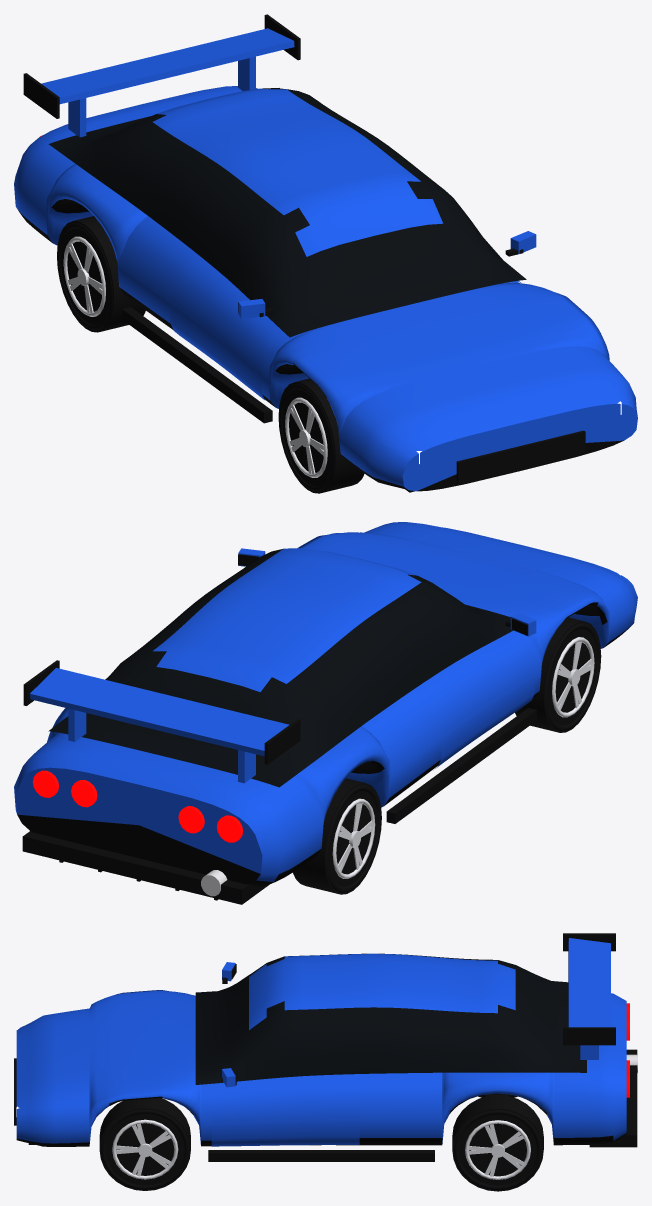
The model's file is kaze.glb.
3 renders of one model, top to bottom at view 1: azimuth 30°, elevation 25°; view 2: azimuth 150°, elevation 25°; view 3: azimuth 270°, elevation 25°, orthographic. The views are drawn at different scales.
Parts seen in each view (by area): view 1: Body, Cabin, Details, Panel2, Tire4, Tire2, Rim2, Rim4; view 2: Body, Cabin, Details, Panel2, Tire4, Tire2, TailLights, Rim2, Rim4; view 3: Cabin, Body, Details, Panel, Tire3, Tire, Rim, Rim3.
Part boxes in pixels (x1,y1,x2,y2): Body: (14, 86, 637, 491); Cabin: (48, 88, 526, 337); Details: (23, 14, 585, 492); Panel2: (170, 255, 285, 399); Tire4: (57, 216, 145, 332); Tire2: (278, 378, 364, 493); Rim2: (285, 397, 327, 477); Rim4: (63, 236, 105, 316); Body: (14, 522, 637, 887); Cabin: (48, 548, 513, 787); Details: (22, 548, 536, 904); Panel2: (412, 633, 534, 768); Tire4: (293, 778, 381, 894); Tire2: (515, 617, 601, 732); TailLights: (32, 770, 243, 842); Rim2: (552, 637, 594, 717); Rim4: (332, 798, 375, 878); Cabin: (195, 953, 586, 1084); Body: (16, 990, 626, 1146); Details: (14, 933, 637, 1161); Panel: (211, 1074, 359, 1146); Tire3: (452, 1095, 543, 1191); Tire: (99, 1098, 190, 1190); Rim: (112, 1119, 178, 1179); Rim3: (465, 1120, 530, 1179).
Size of the model in its own units: 2.05 by 1.37 by 4.7.
